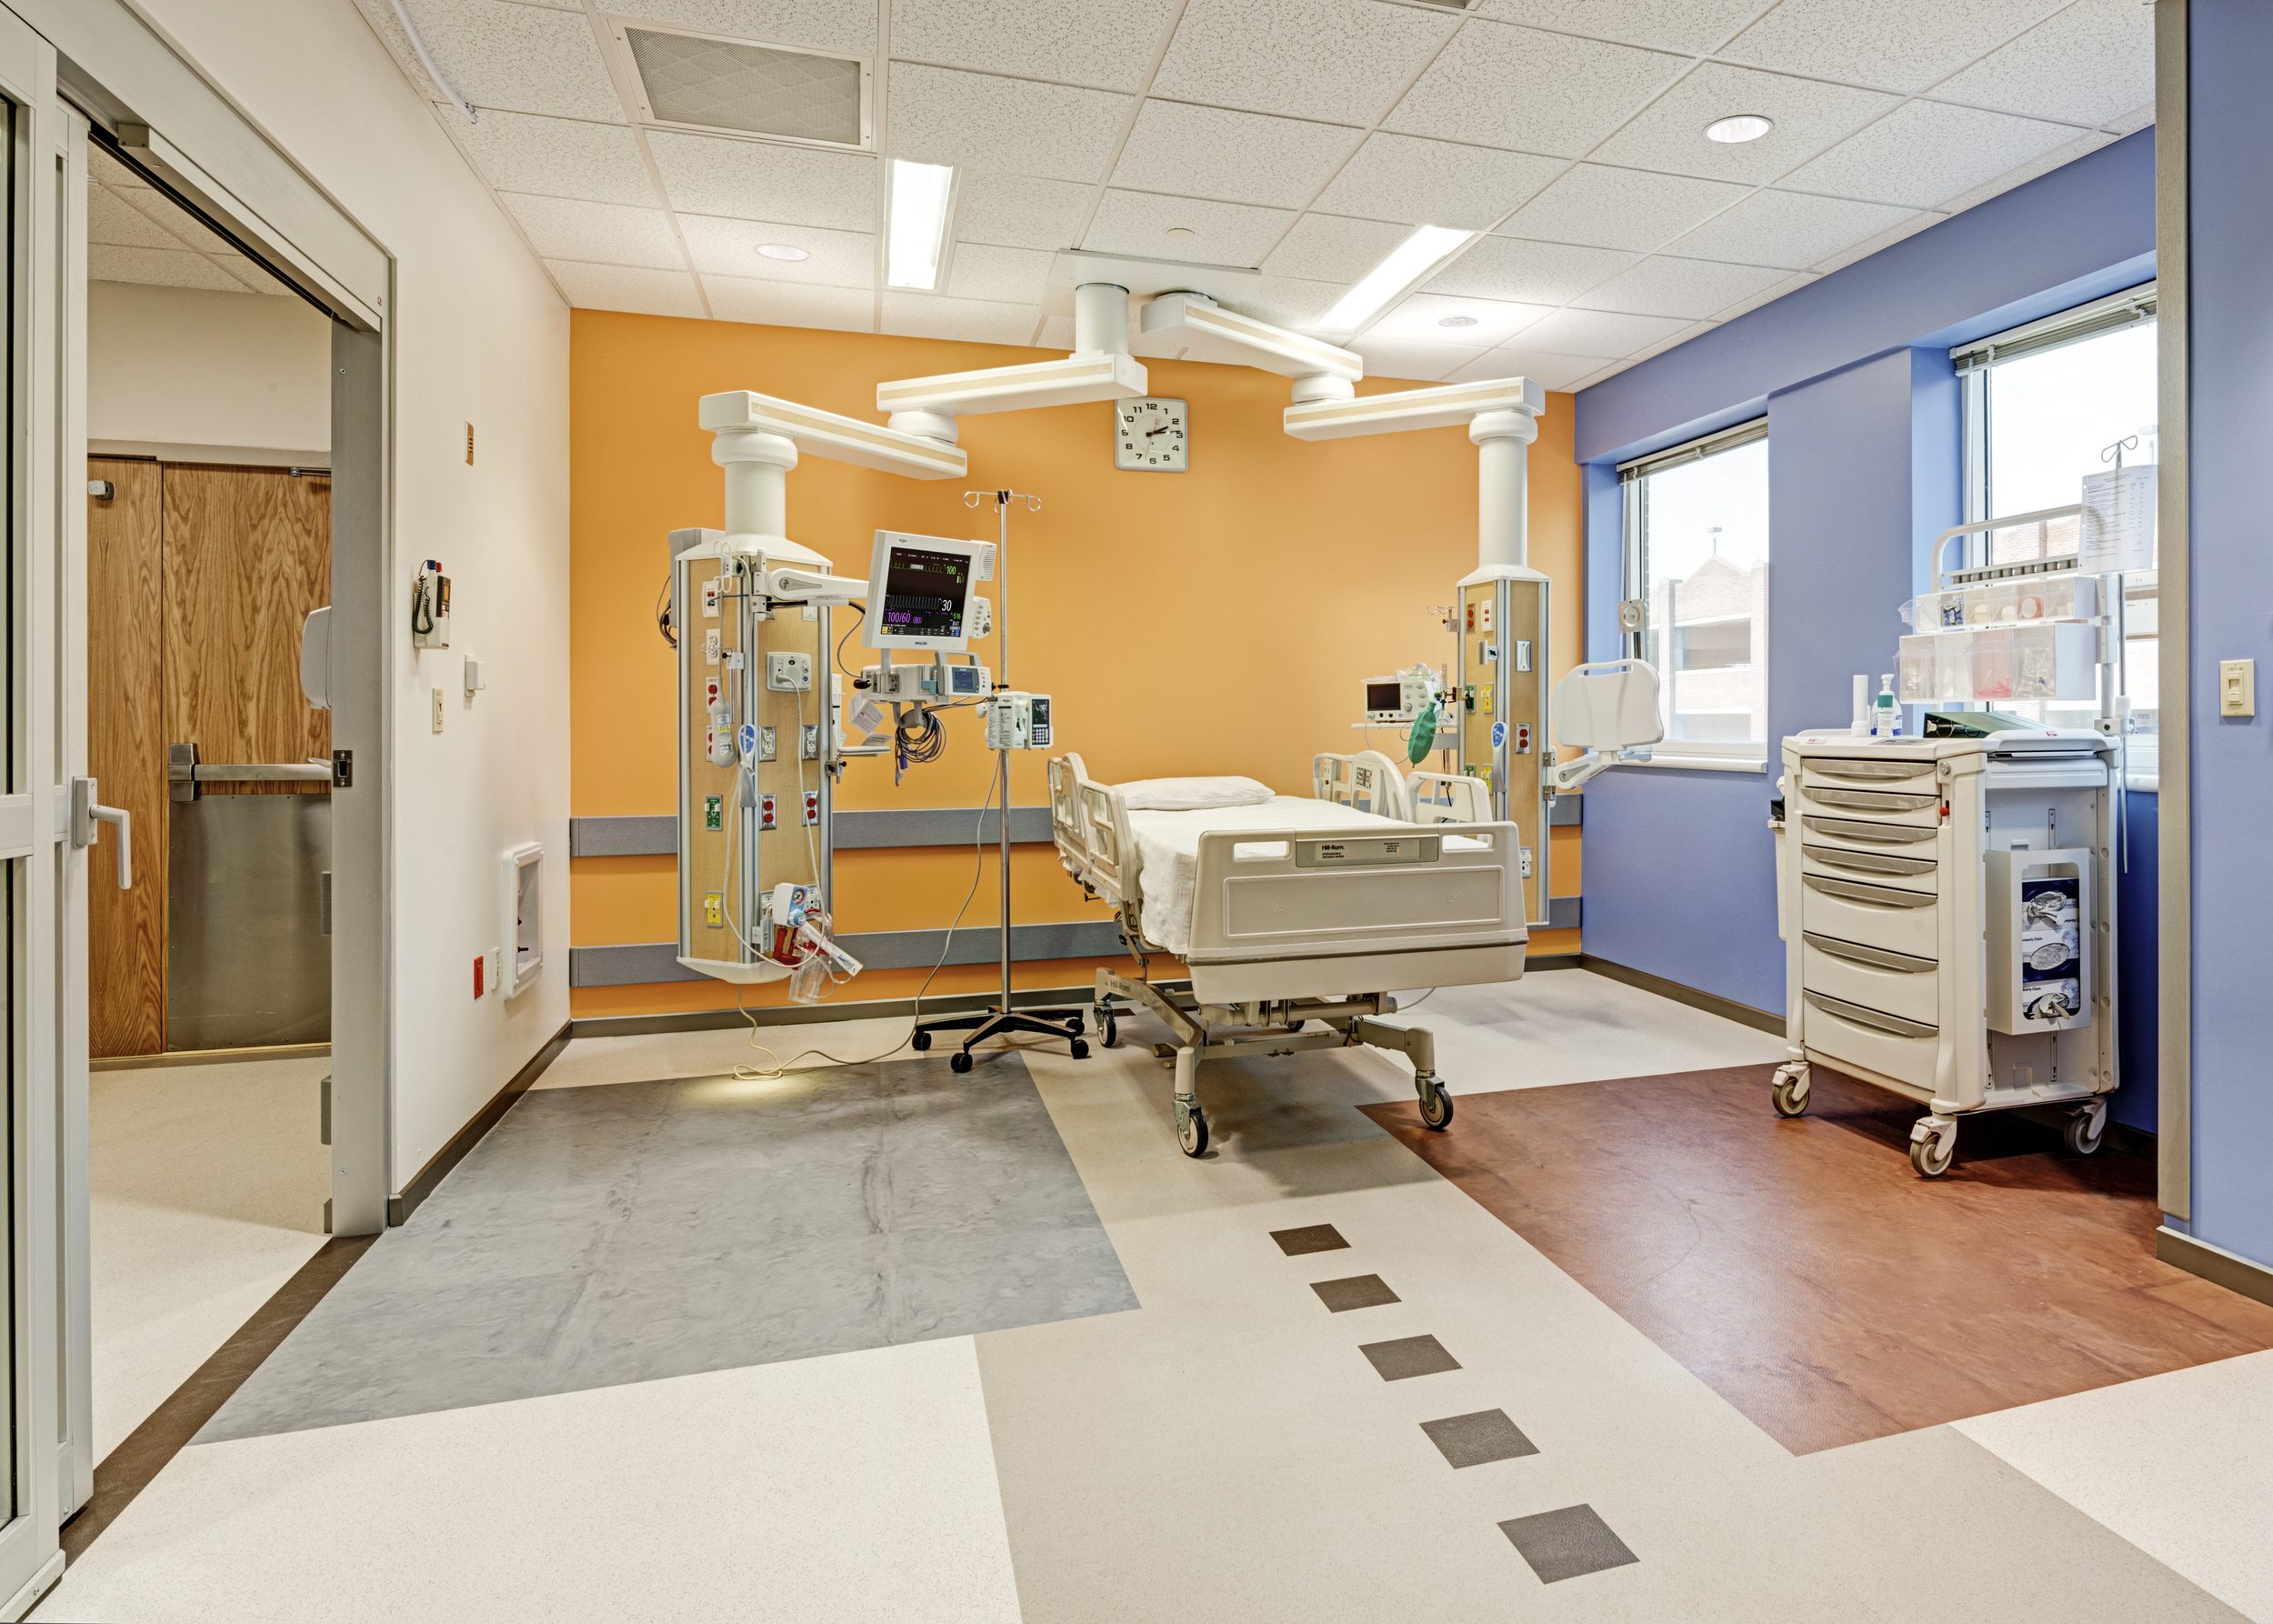bedrail: (1047, 754, 1138, 903), (1310, 750, 1407, 821), (1403, 772, 1491, 831)
bedside_monitor: (866, 529, 999, 652), (1363, 678, 1405, 717)
door_handle: (70, 772, 141, 884)
foot_board: (1189, 821, 1530, 1005)
iv_pole: (964, 480, 1043, 1025), (2092, 431, 2141, 576)
medical_drawer: (1776, 728, 2120, 1169)
push_latch: (163, 724, 337, 807)
